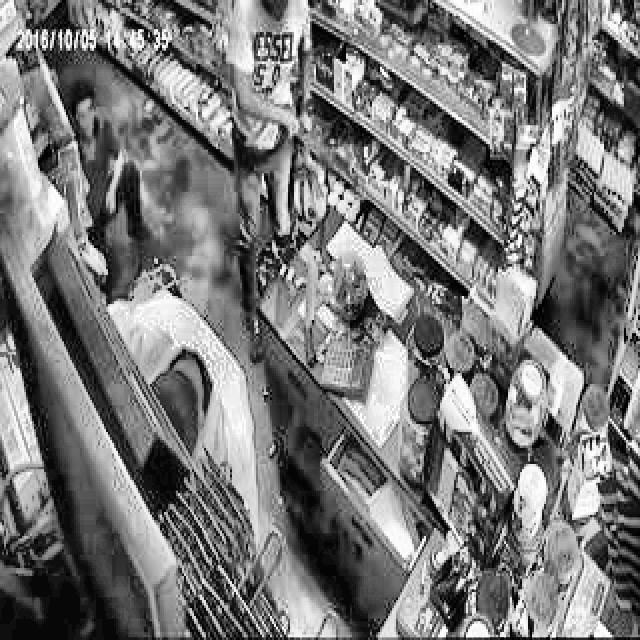robbery: (225, 0, 318, 357)
